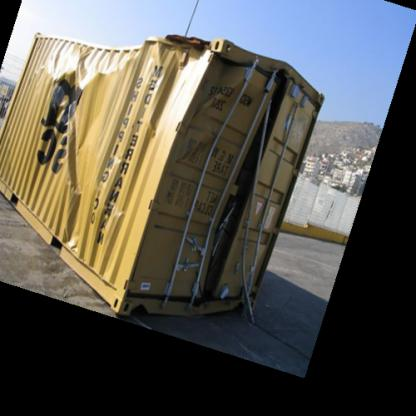Damage: (198, 73, 289, 295), (36, 42, 94, 246)
